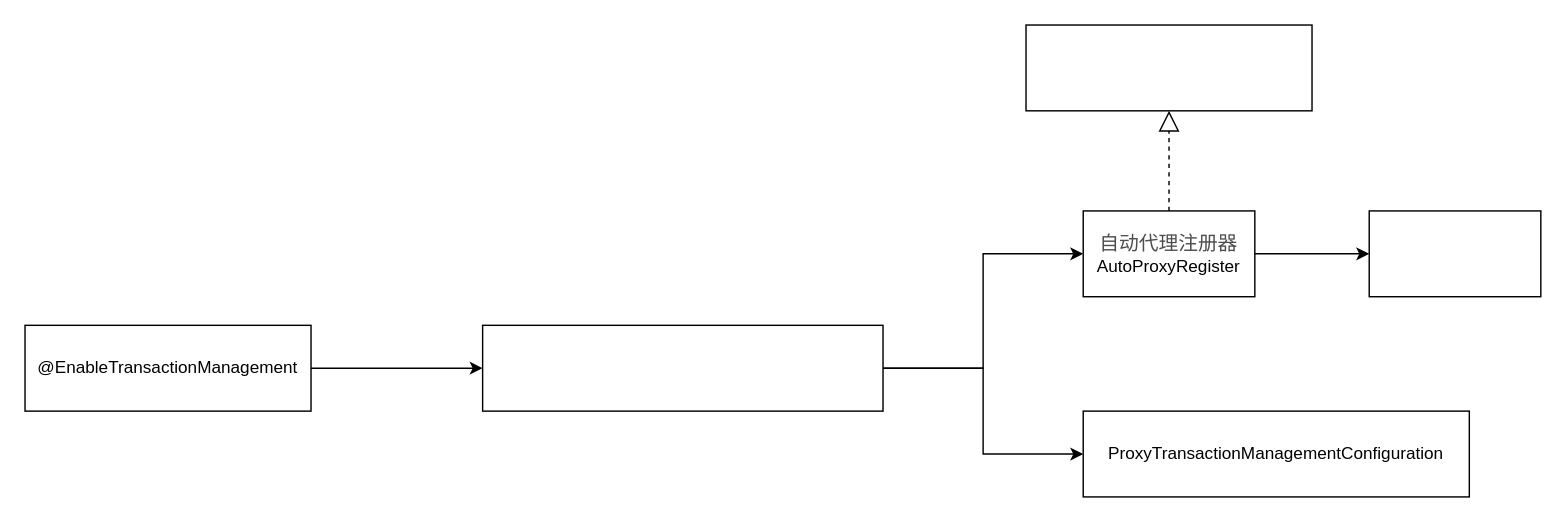
Image size: 1566x522. Some labels were removed from this diagram. The centre of each missing label's shape, as x and y in pixels:
ImportBeanDefinitionRegistrar: the point at 1168,67
TransactionManagementConfigurationSelector: the point at 682,367
